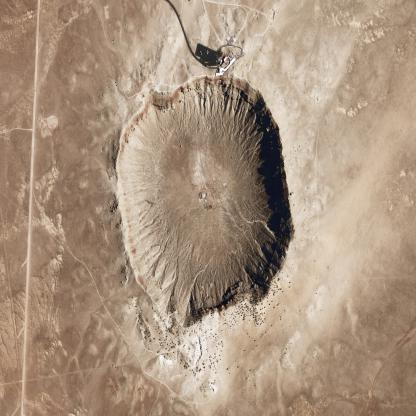craters: (105, 74, 307, 330)
